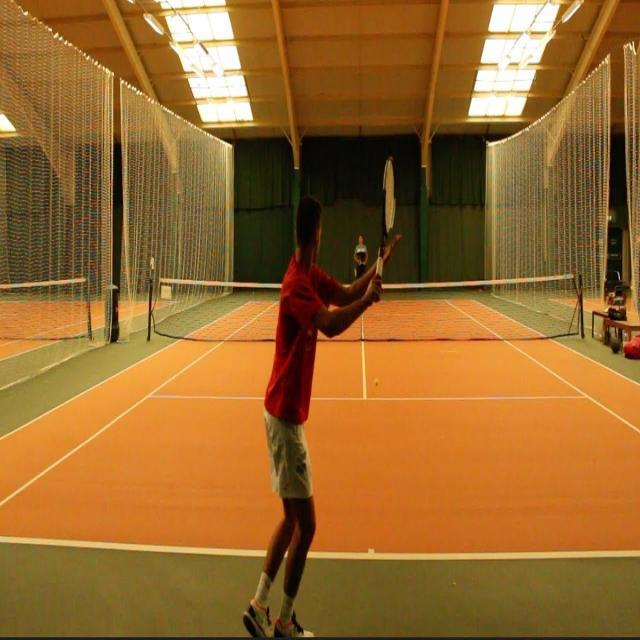court: (0, 320, 640, 616)
net: (144, 254, 590, 348)
player: (242, 154, 399, 640)
